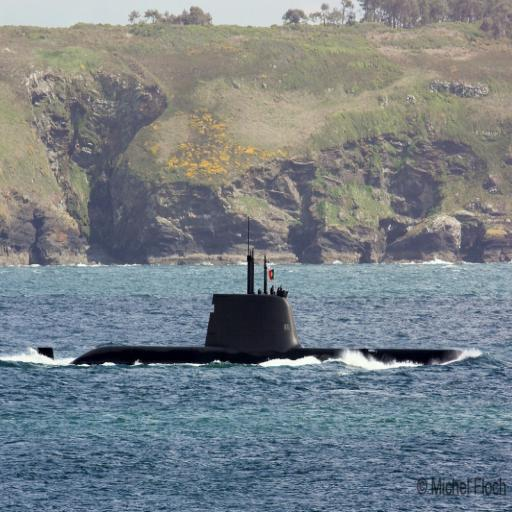submarine: (37, 298, 466, 366)
